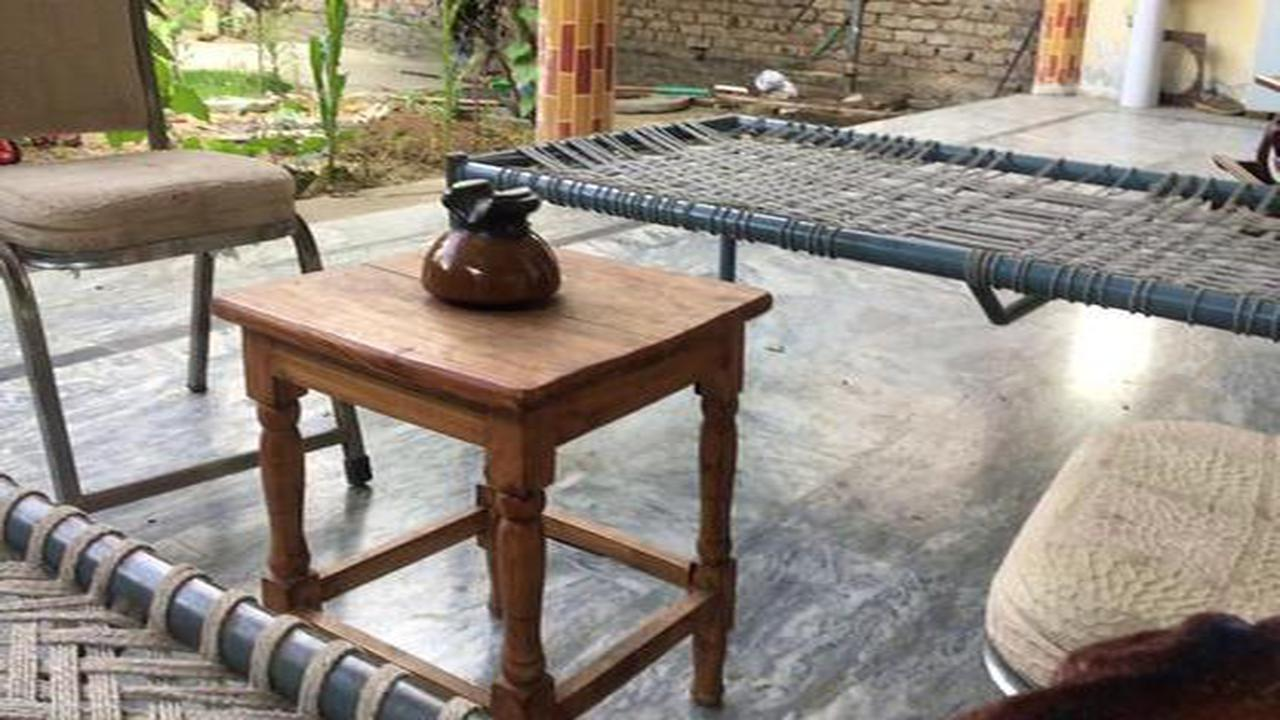insulator_pin: (401, 166, 591, 326)
